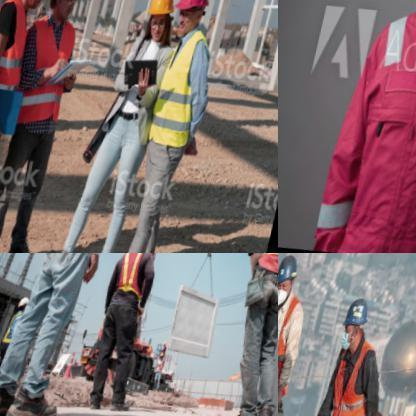vest: (313, 0, 415, 252), (13, 8, 89, 131), (150, 30, 220, 160), (320, 344, 392, 415), (0, 0, 40, 117), (278, 294, 311, 400), (114, 253, 157, 306), (6, 310, 30, 351)
